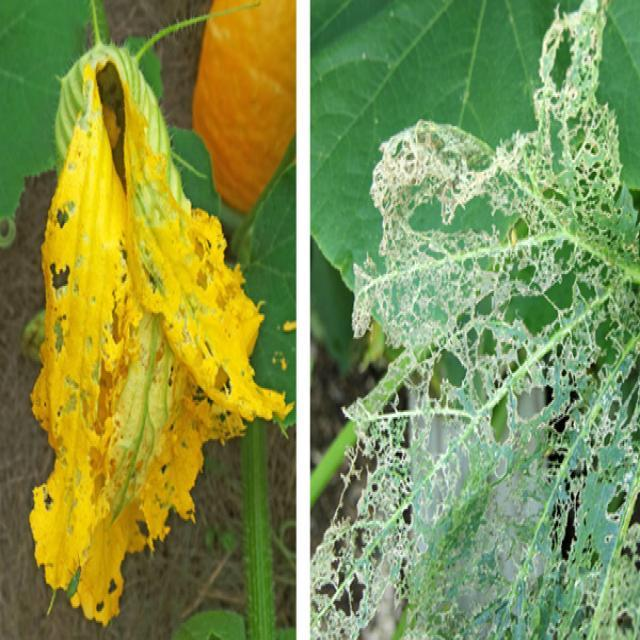Pumpkin Beetle: (307, 0, 640, 640), (30, 56, 292, 623)
